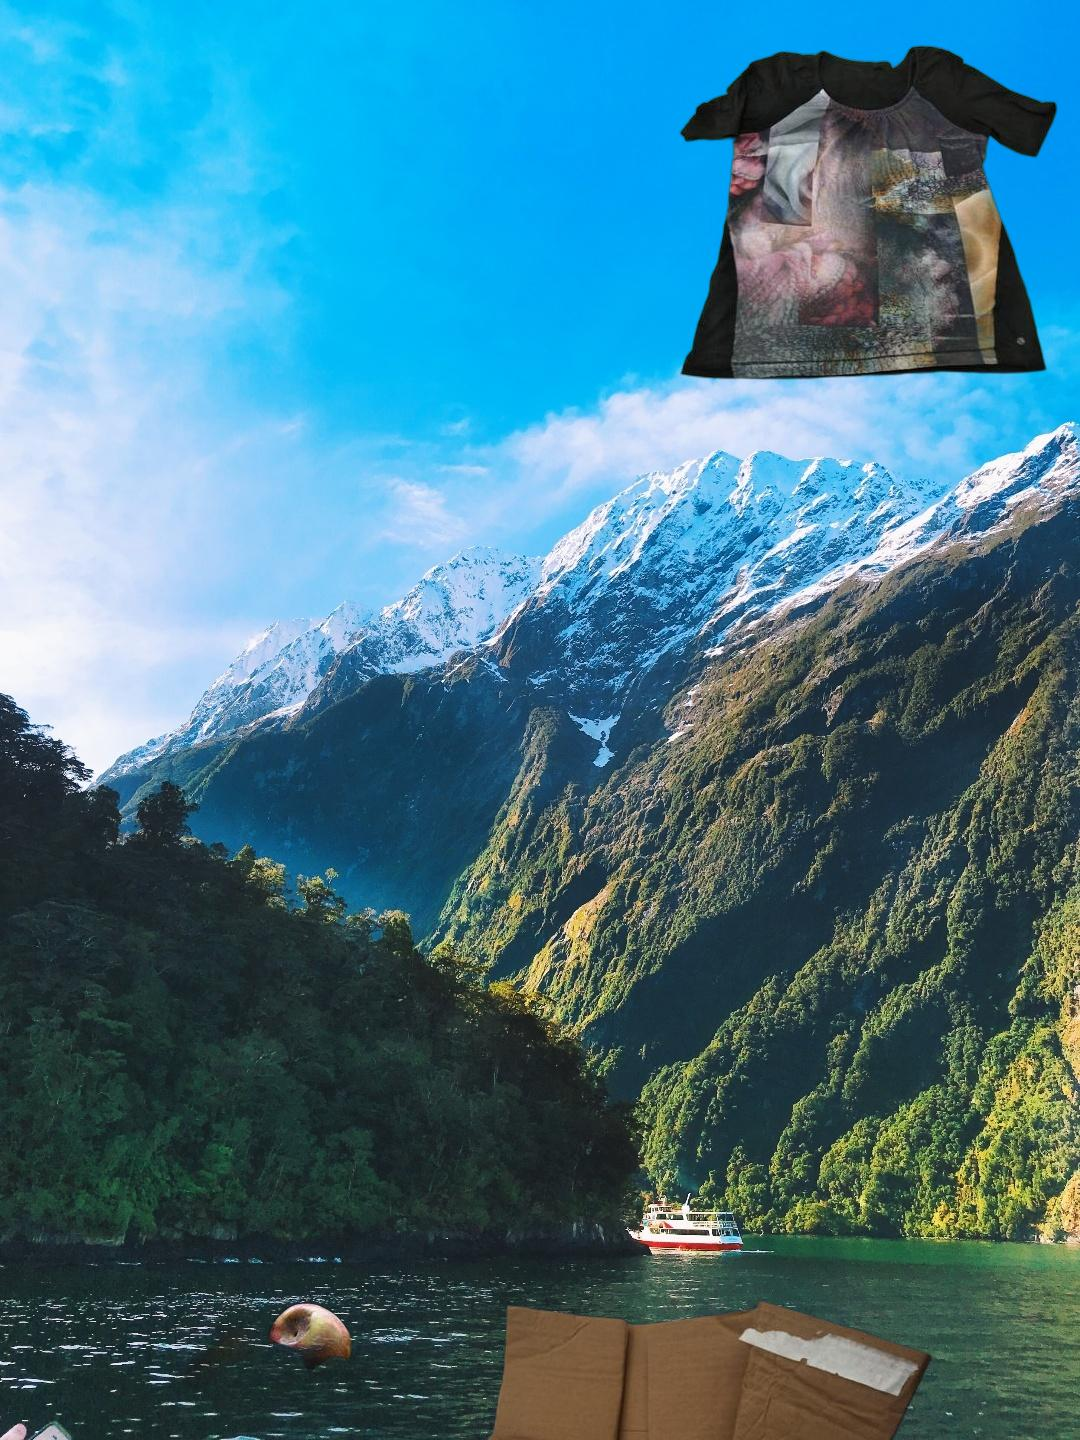biological: (151, 1262, 440, 1401)
clothes: (678, 42, 1061, 384)
trashbox-cardboard: (454, 1299, 937, 1440)
